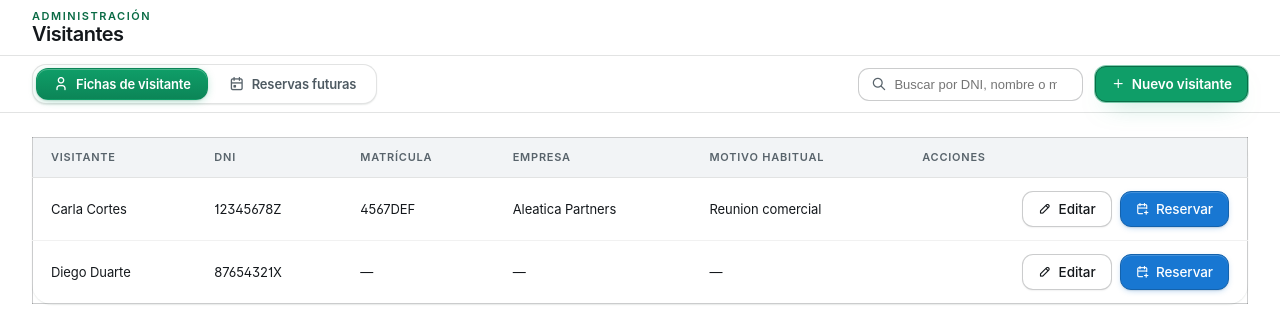
Test: VisitorsPage (ADMIN) › should_request_with_q_when_searching_by_national_id_or_name
Check: the text "Carla Cortes" is shown, box [32,178,196,240]
Type "Diego" into the search field at (982,84), box [894,68,1070,100]
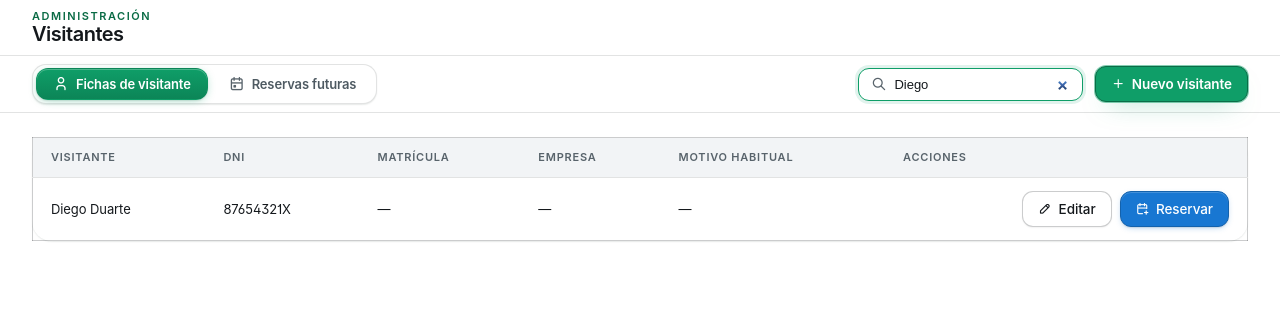
Check: the text "Diego Duarte" is shown, box [32,178,205,240]
Check: the text "Carla Cortes" is gone
